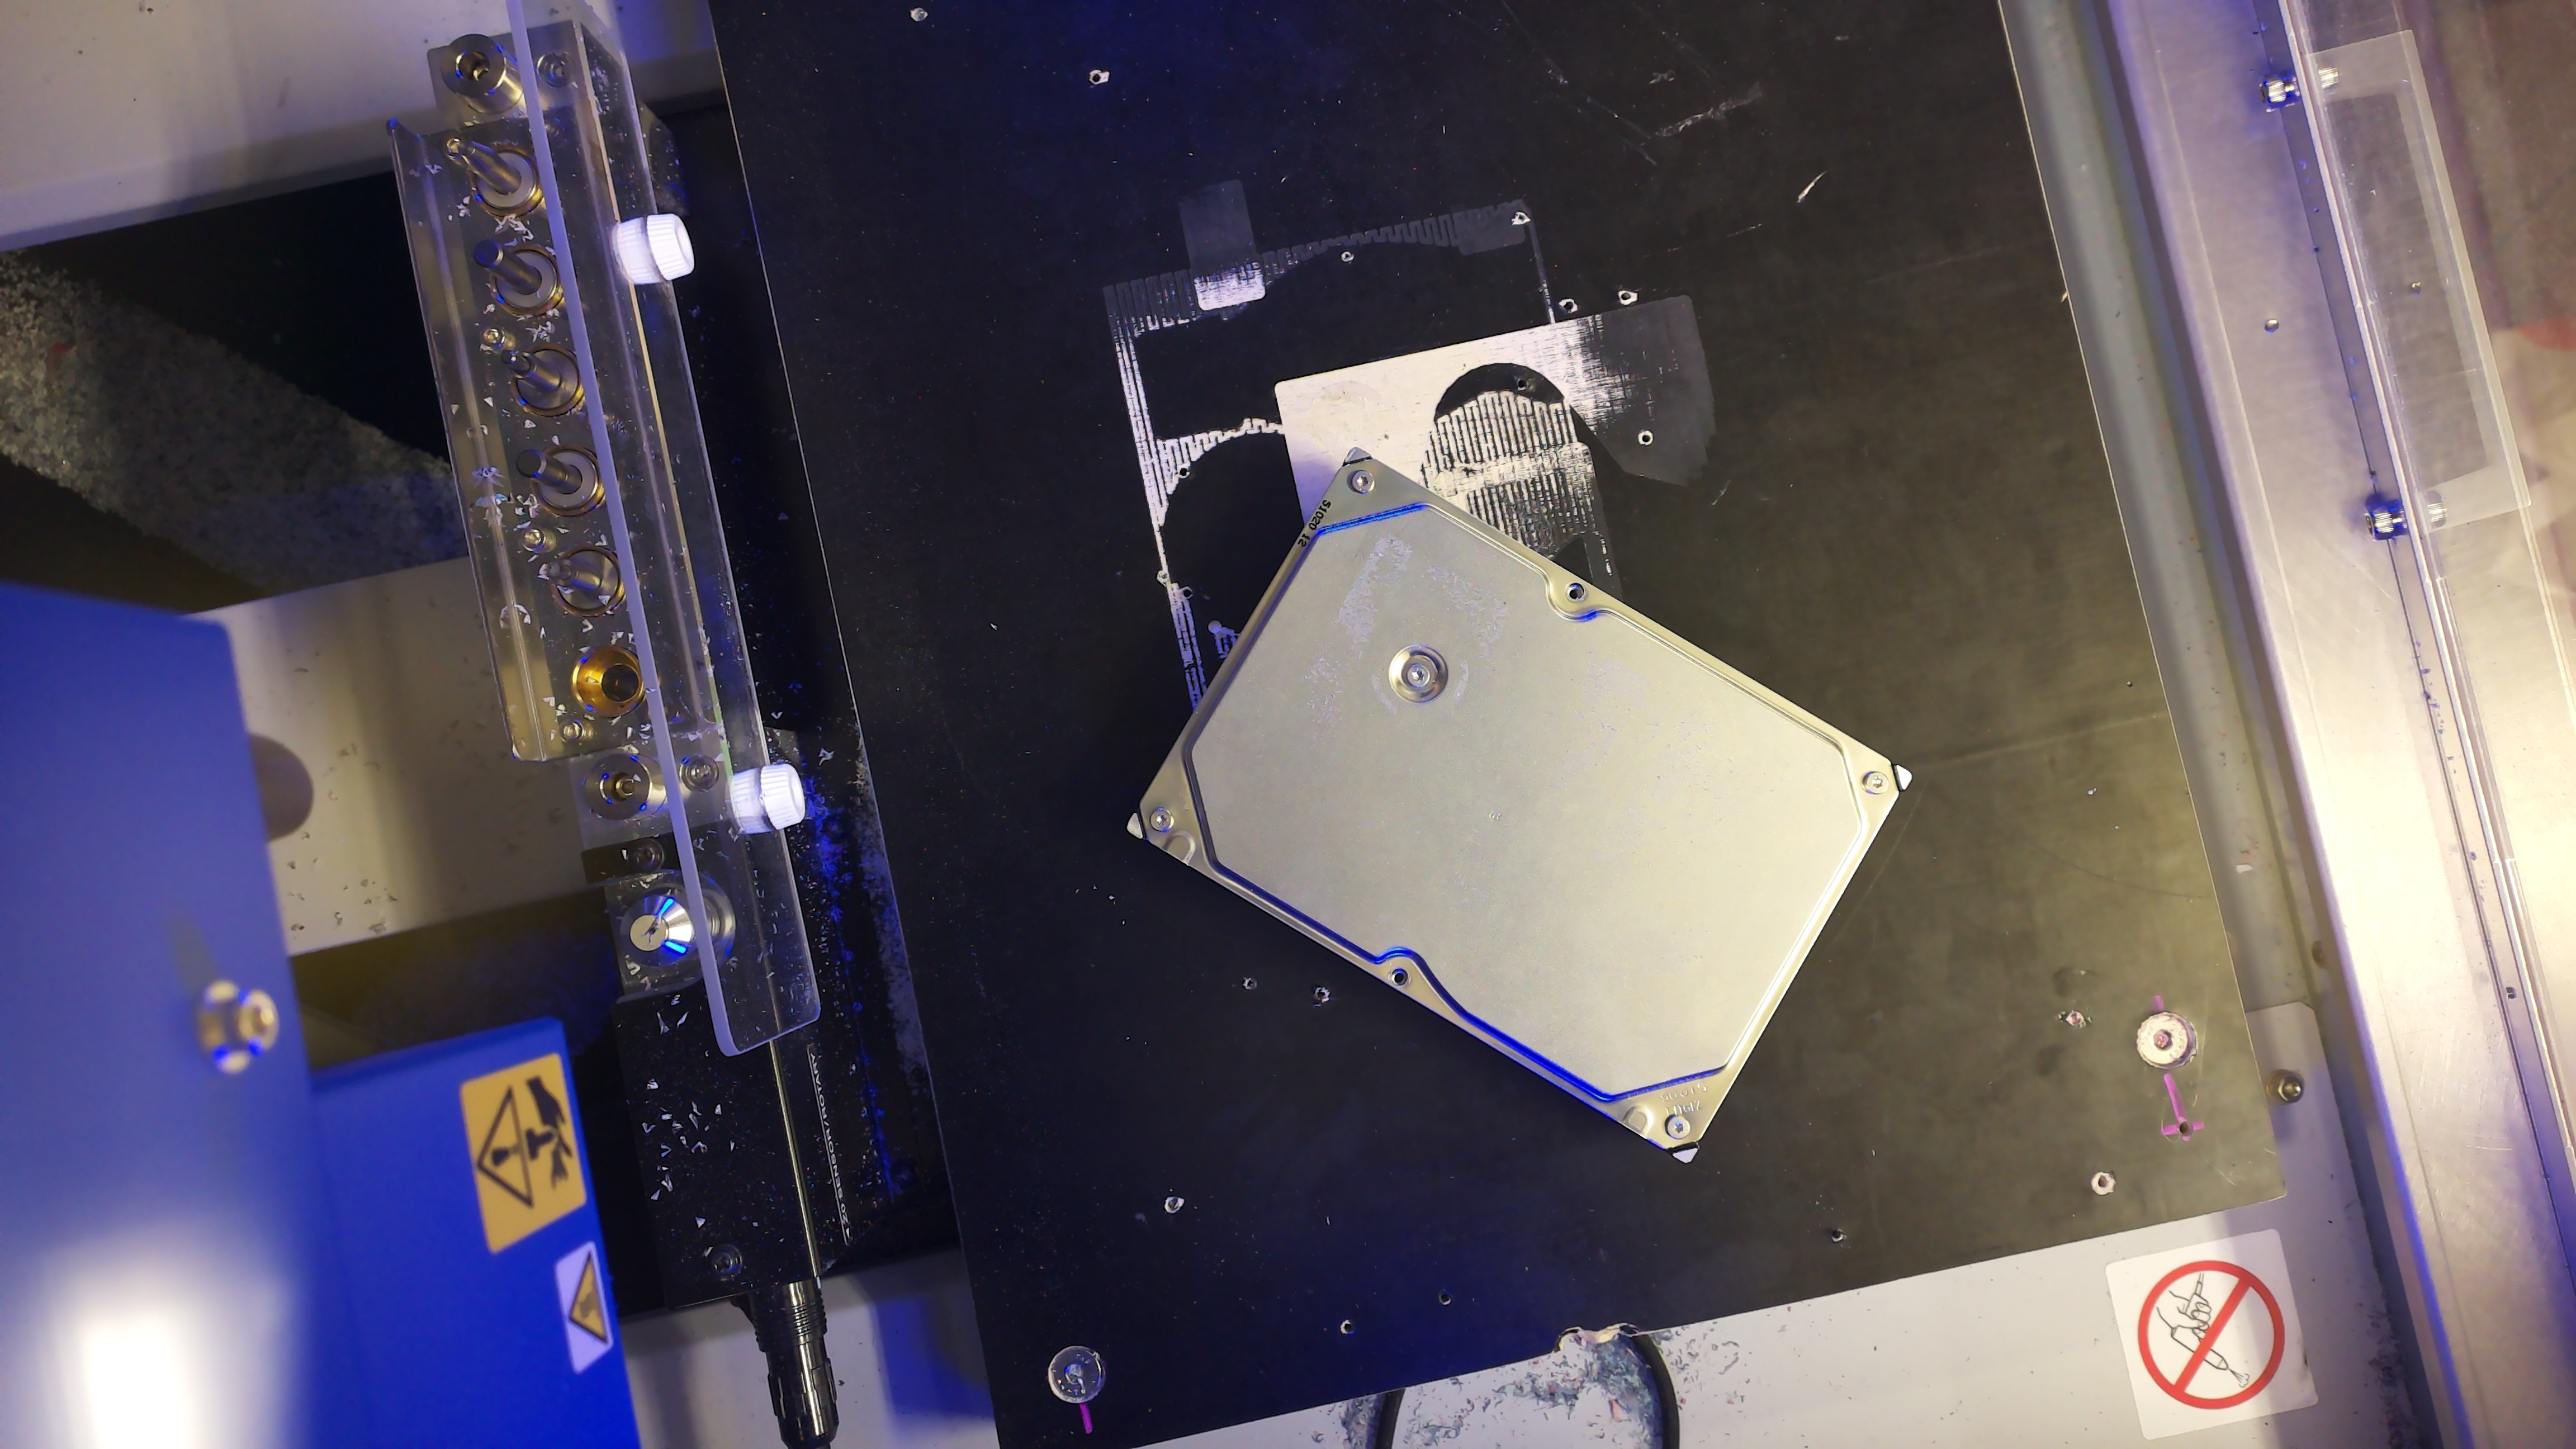Hole: (1389, 966, 1410, 987), (1566, 582, 1585, 602)
Screw: (1665, 1115, 1690, 1139), (1863, 771, 1888, 794), (1150, 807, 1175, 830), (1350, 471, 1375, 494), (1407, 663, 1430, 686)
